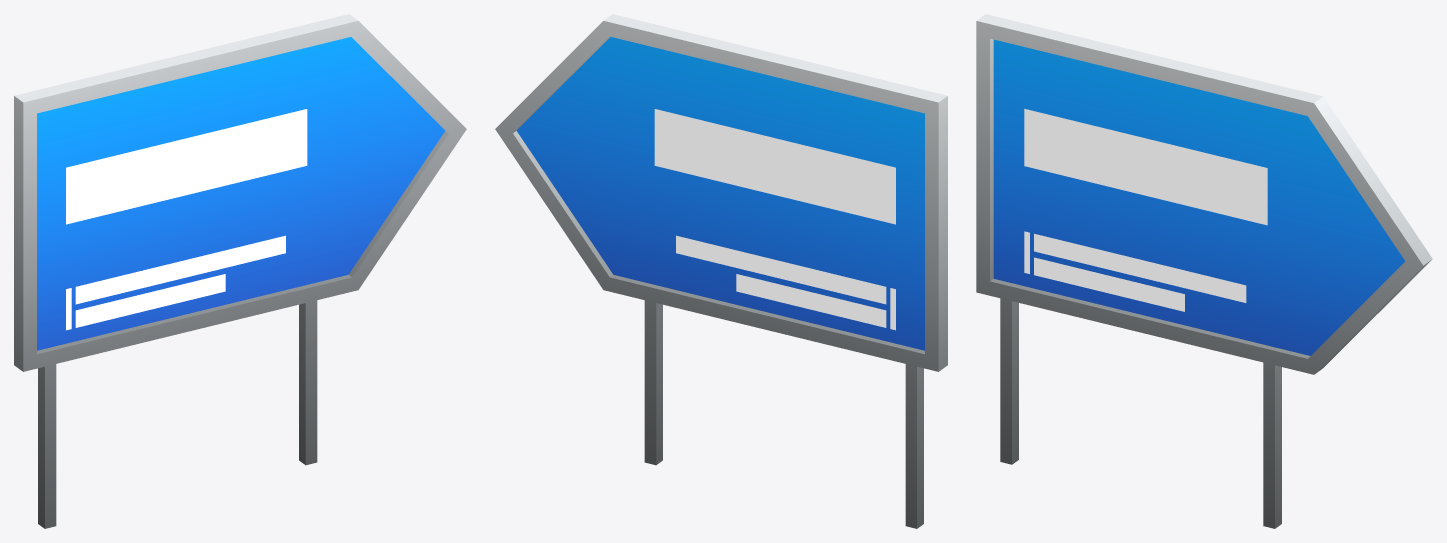
Rendered from Billboard_04.glb.
3 views of the same model, side by side, from view 1: azimuth 30°, elevation 25°; view 2: azimuth 150°, elevation 25°; view 3: azimuth 330°, elevation 25° (orthographic).
Parts seen in each view (by area): view 1: Billboard_04; view 2: Billboard_04; view 3: Billboard_04.
Boxes of the visible parts, left/top/right/bottom form: Billboard_04: left=14, top=14, right=466, bottom=528; Billboard_04: left=495, top=14, right=947, bottom=528; Billboard_04: left=976, top=14, right=1432, bottom=528.
Bounding box in the file's own units: 1.62 × 1.51 × 0.0583.
Materials: 1 (1 with a texture image).
